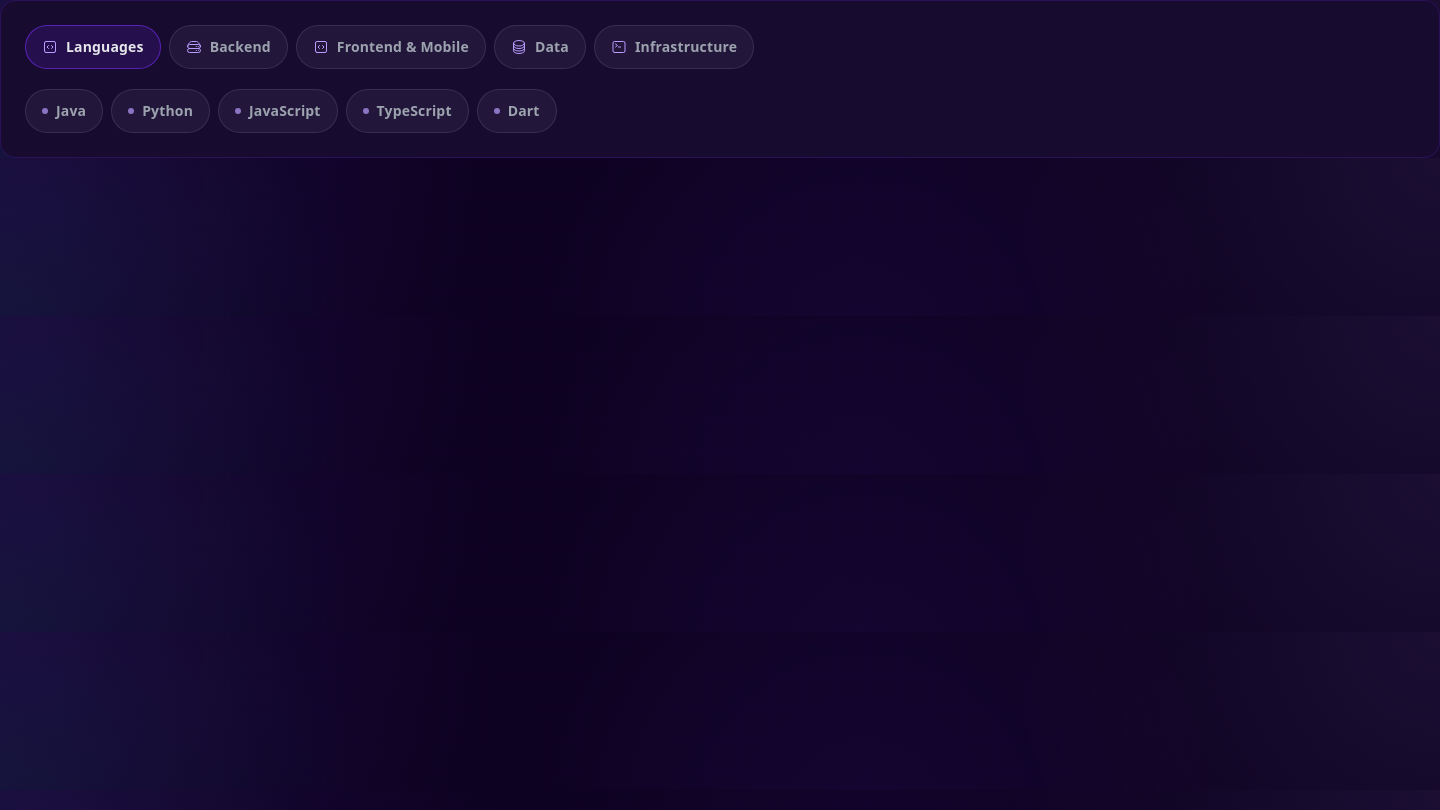
Scenario: SkillsMatrix › switches category on click and updates aria-selected
The image size is (1440, 810).
Click the tab "Backend". click: click(228, 47)
box: 169,25 -> 288,69
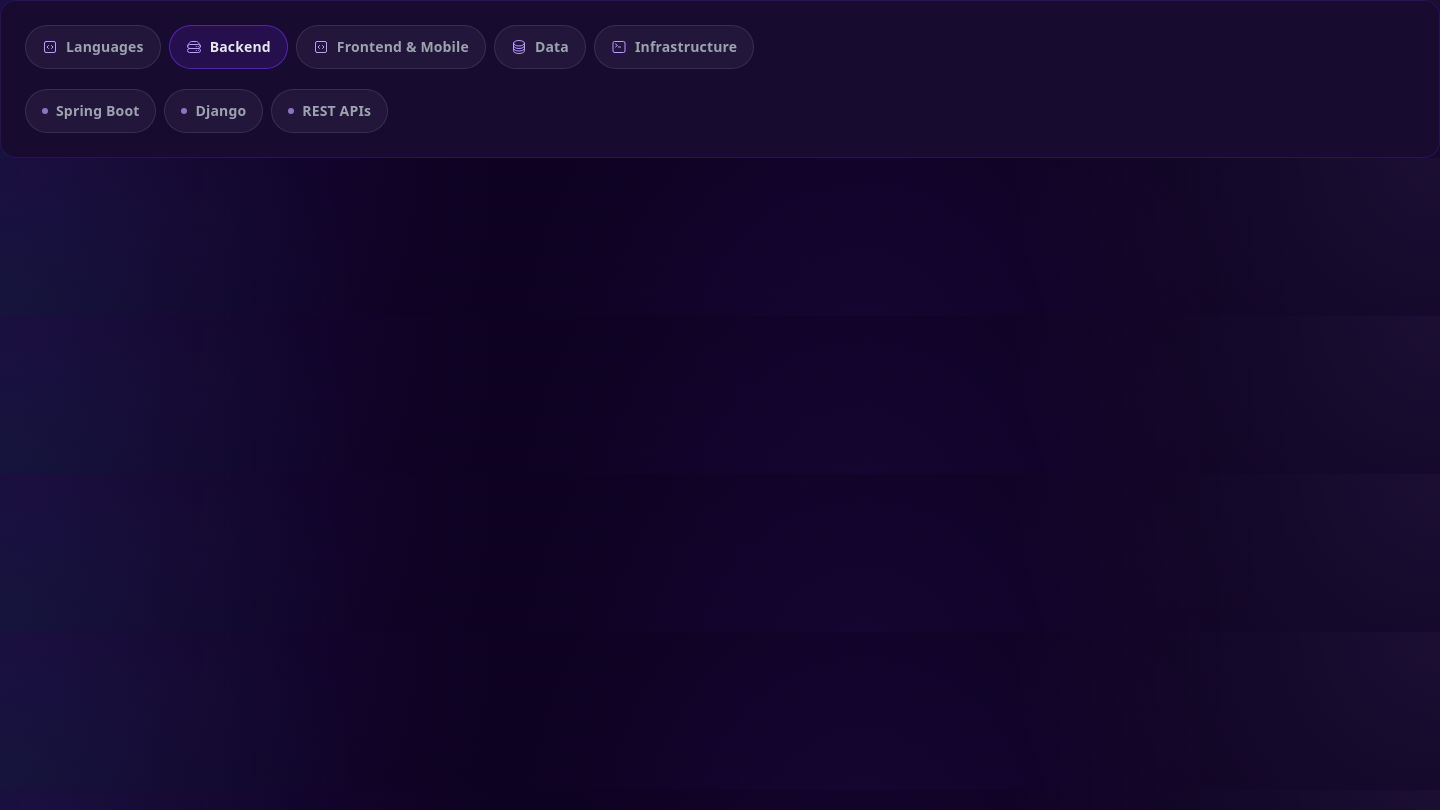
Expected: the text "Spring Boot" is shown, 25,89 -> 156,133
Expected: the text "REST APIs" is shown, 271,89 -> 388,133
Expected: the text "Java" is gone
